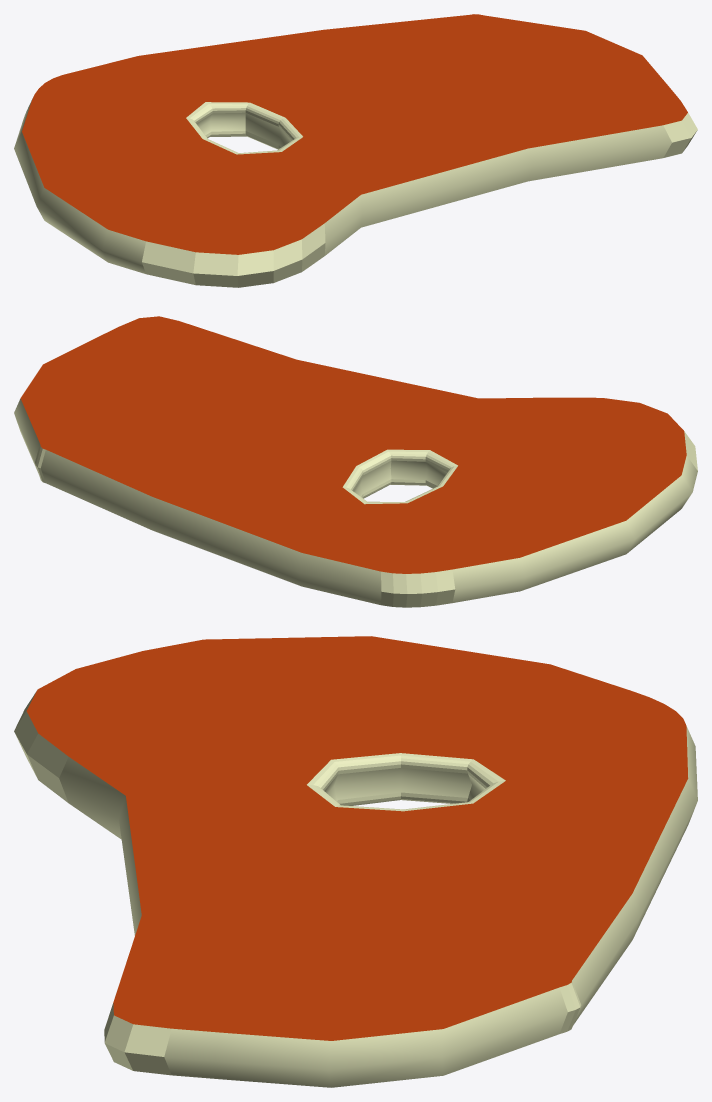
The model's file is bistec.FBX.
3 renders of one model, top to bottom at view 1: azimuth 30°, elevation 25°; view 2: azimuth 150°, elevation 25°; view 3: azimuth 270°, elevation 25°, orthographic. The views are drawn at different scales.
Parts seen in each view (by area): view 1: Box002; view 2: Box002; view 3: Box002.
Part boxes in pixels (x1,y1,x2,y2): Box002: (14,14,697,287); Box002: (14,316,697,607); Box002: (14,636,697,1087).
Bounding box in the file's own units: 670 × 465 × 35.1.
